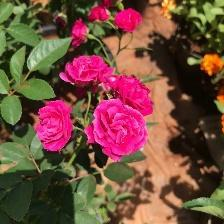rose: (86, 99, 150, 161), (36, 99, 75, 153), (107, 76, 157, 114), (63, 52, 110, 88)
